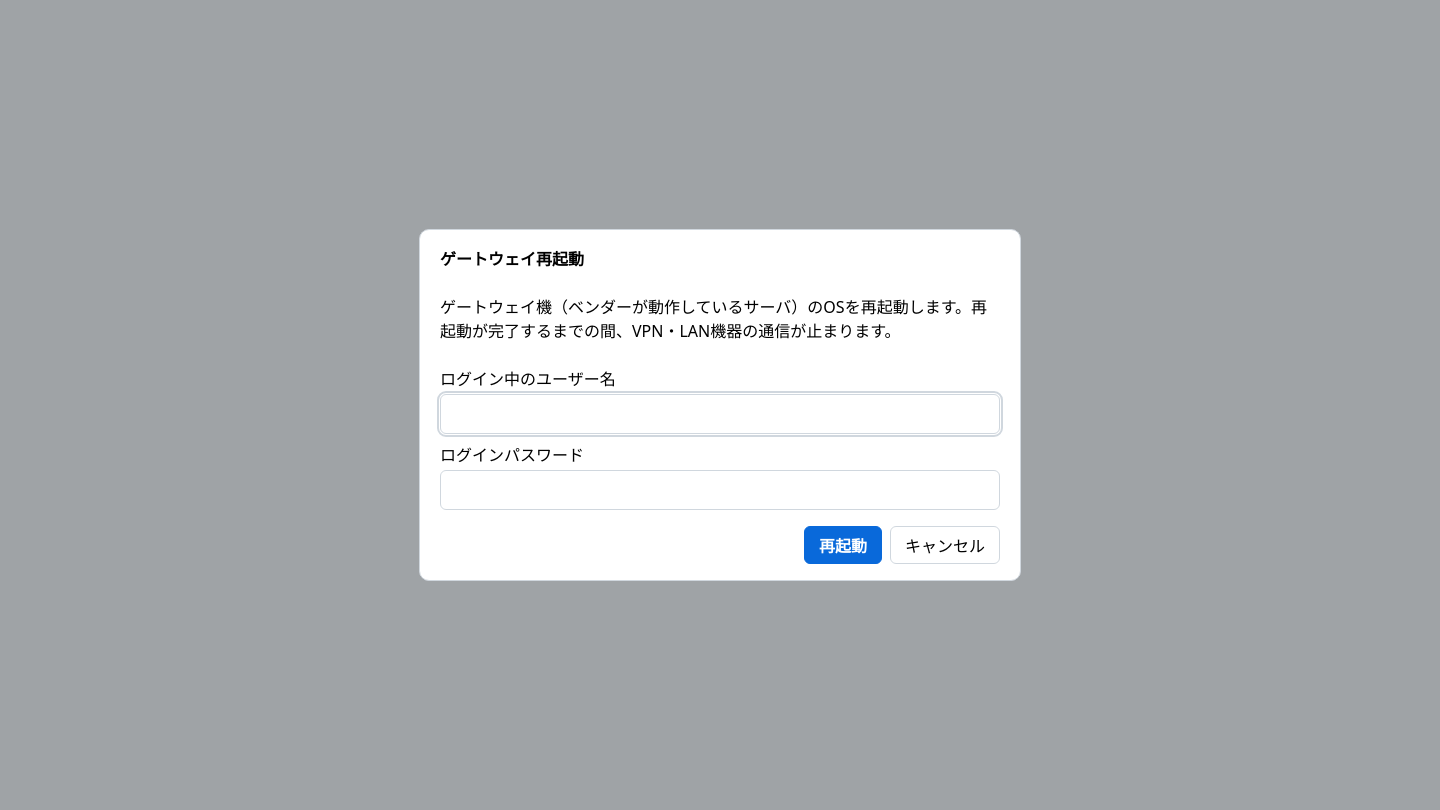
Test: RebootDialog › 503は再起動の仕組みが未導入である旨を表示する
Type "pw" into the password field labelled "ログインパスワード".
click(720, 490); type("pw")  # box [440,470,1000,510]
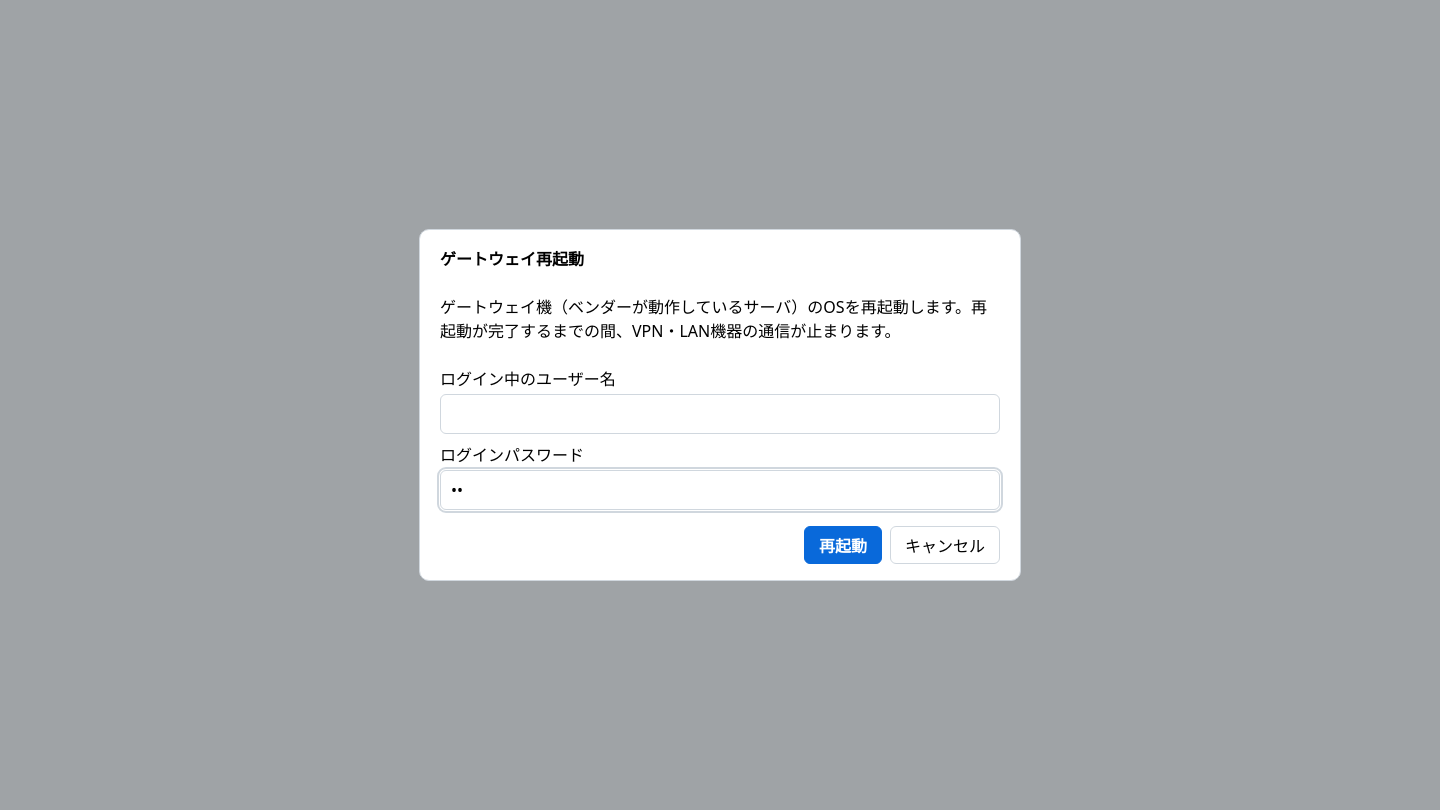
Click the button "再起動".
click(843, 545)  # box [804,526,882,564]
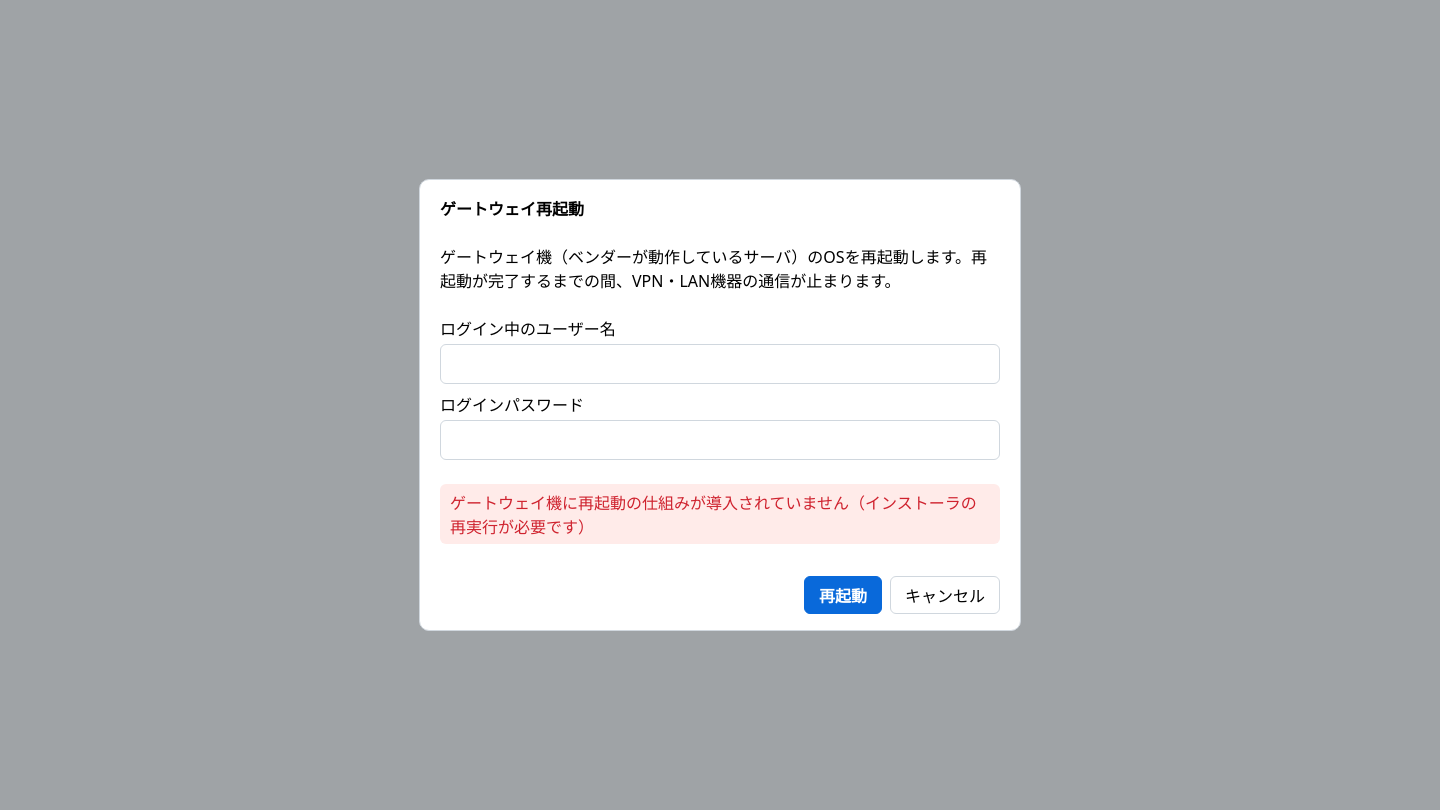
Result: the message shows "導入されていません" at [450,492,977,538]
